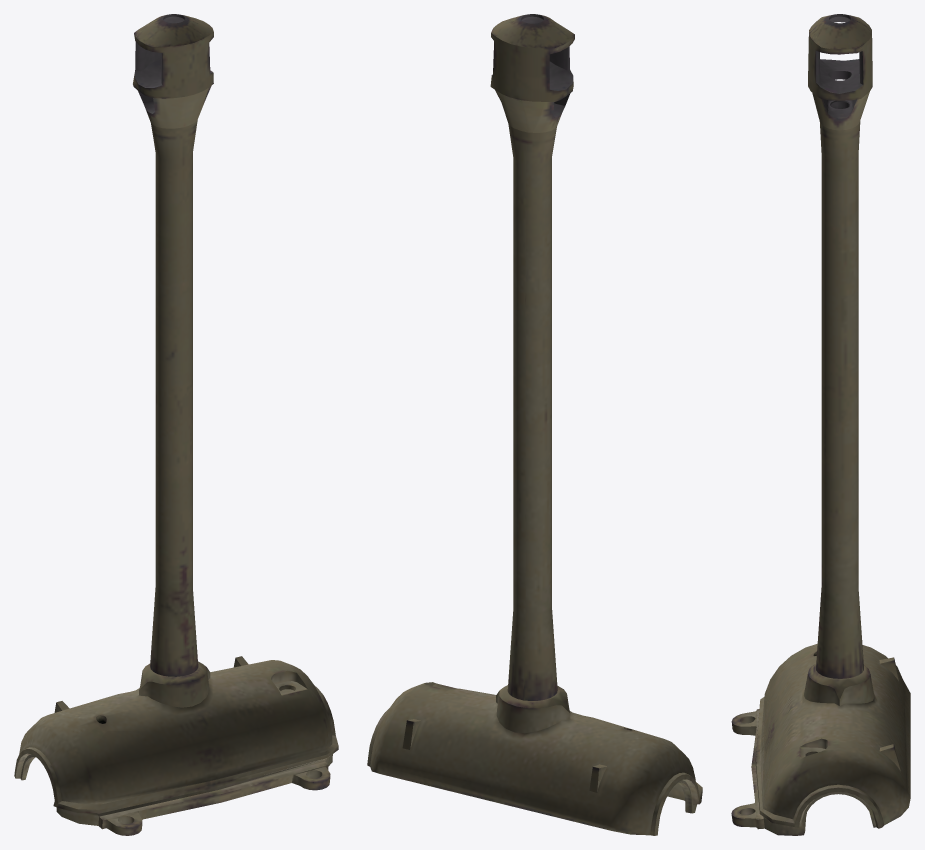
Rendered from Gun_03.glb.
3 renders of one model, left to right at view 1: azimuth 30°, elevation 25°; view 2: azimuth 150°, elevation 25°; view 3: azimuth 270°, elevation 25°, orthographic. The views are drawn at different scales.
Parts seen in each view (by area): view 1: set_0_group_0; view 2: set_0_group_0; view 3: set_0_group_0.
Boxes of the visible parts, bbox=[...] form: set_0_group_0: bbox=[14, 14, 338, 835]; set_0_group_0: bbox=[367, 14, 702, 835]; set_0_group_0: bbox=[731, 14, 910, 835].
Bounding box in the file's own units: 1.55 × 3.97 × 0.852.
1 material, 1 textured.
